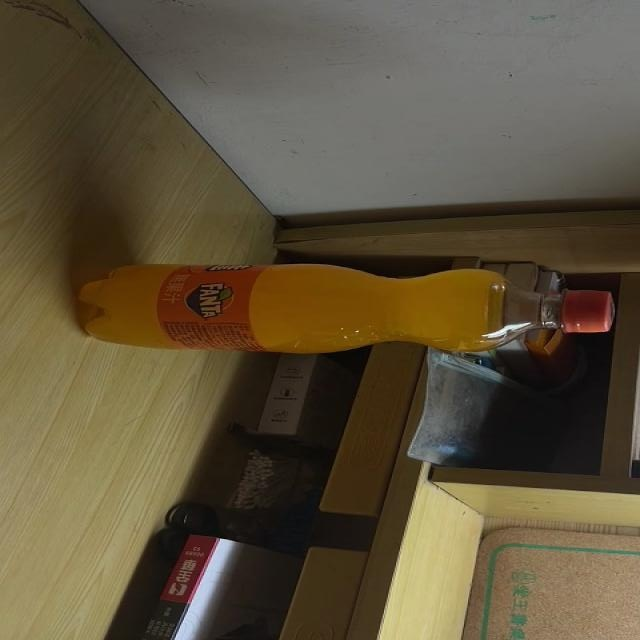Fanta: (86, 262, 609, 356)
